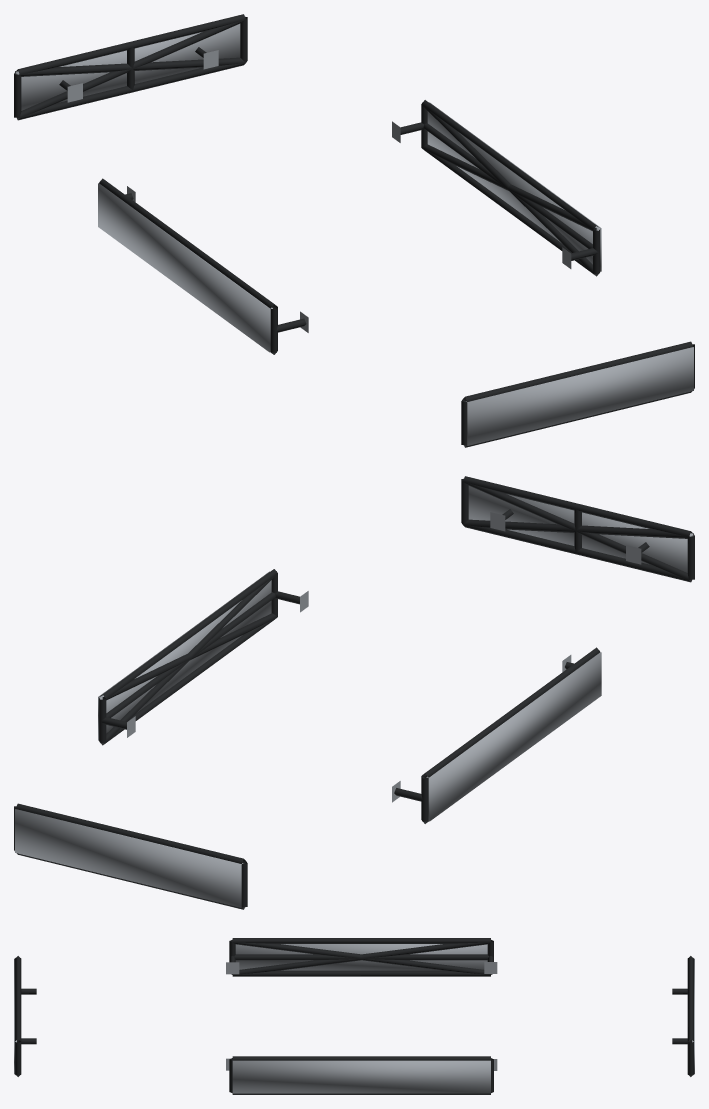
File: bancroft_forjador_protecao.glb
3 renders of one model, top to bottom at view 1: azimuth 30°, elevation 25°; view 2: azimuth 150°, elevation 25°; view 3: azimuth 270°, elevation 25°, orthographic. The views are drawn at different scales.
Visible parts, largest first — view 1: Protection_front_Level3_Details, Protection_left_Level3_Details, Protection_rear_Level3_Details, Protection_rear_Level1_Details, Protection_right_Level1_Details, Protection_right_Level2_Details, Protection_rear_Level2_Details, Protection_right_Level3_Details, Protection_front_Level1_Details, Protection_left_Level1_Details; view 2: Protection_rear_Level3_Details, Protection_left_Level3_Details, Protection_front_Level3_Details, Protection_front_Level1_Details, Protection_right_Level1_Details, Protection_right_Level2_Details, Protection_front_Level2_Details, Protection_right_Level3_Details, Protection_rear_Level1_Details, Protection_left_Level1_Details; view 3: Protection_right_Level3_Details, Protection_left_Level2_Details, Protection_left_Level1_Details, Protection_left_Level3_Details, Protection_right_Level1_Details, Protection_rear_Level1_Details, Protection_front_Level1_Details.
Boxes of the visible parts, <box> form: Protection_front_Level3_Details: <box>465,347,693,445</box>; Protection_left_Level3_Details: <box>98,183,272,352</box>; Protection_rear_Level3_Details: <box>15,24,240,110</box>; Protection_rear_Level1_Details: <box>14,14,247,120</box>; Protection_right_Level1_Details: <box>392,100,600,276</box>; Protection_right_Level2_Details: <box>421,105,600,276</box>; Protection_rear_Level2_Details: <box>16,19,245,119</box>; Protection_right_Level3_Details: <box>427,102,601,271</box>; Protection_front_Level1_Details: <box>461,341,694,447</box>; Protection_left_Level1_Details: <box>99,178,308,354</box>; Protection_rear_Level3_Details: <box>15,809,243,907</box>; Protection_left_Level3_Details: <box>426,652,601,821</box>; Protection_front_Level3_Details: <box>468,486,693,572</box>; Protection_front_Level1_Details: <box>461,476,694,582</box>; Protection_right_Level1_Details: <box>99,569,308,745</box>; Protection_right_Level2_Details: <box>100,574,277,744</box>; Protection_front_Level2_Details: <box>463,481,692,581</box>; Protection_right_Level3_Details: <box>98,571,271,740</box>; Protection_rear_Level1_Details: <box>14,803,247,909</box>; Protection_left_Level1_Details: <box>392,647,599,823</box>; Protection_right_Level3_Details: <box>232,1060,490,1093</box>; Protection_left_Level2_Details: <box>232,940,490,974</box>; Protection_left_Level1_Details: <box>226,938,497,976</box>; Protection_left_Level3_Details: <box>235,944,487,970</box>; Protection_right_Level1_Details: <box>226,1056,497,1094</box>; Protection_rear_Level1_Details: <box>672,956,693,1076</box>; Protection_front_Level1_Details: <box>15,956,36,1076</box>.
Size of the model in its own units: 2.4 by 0.354 by 5.67.
1 material, 1 textured.
